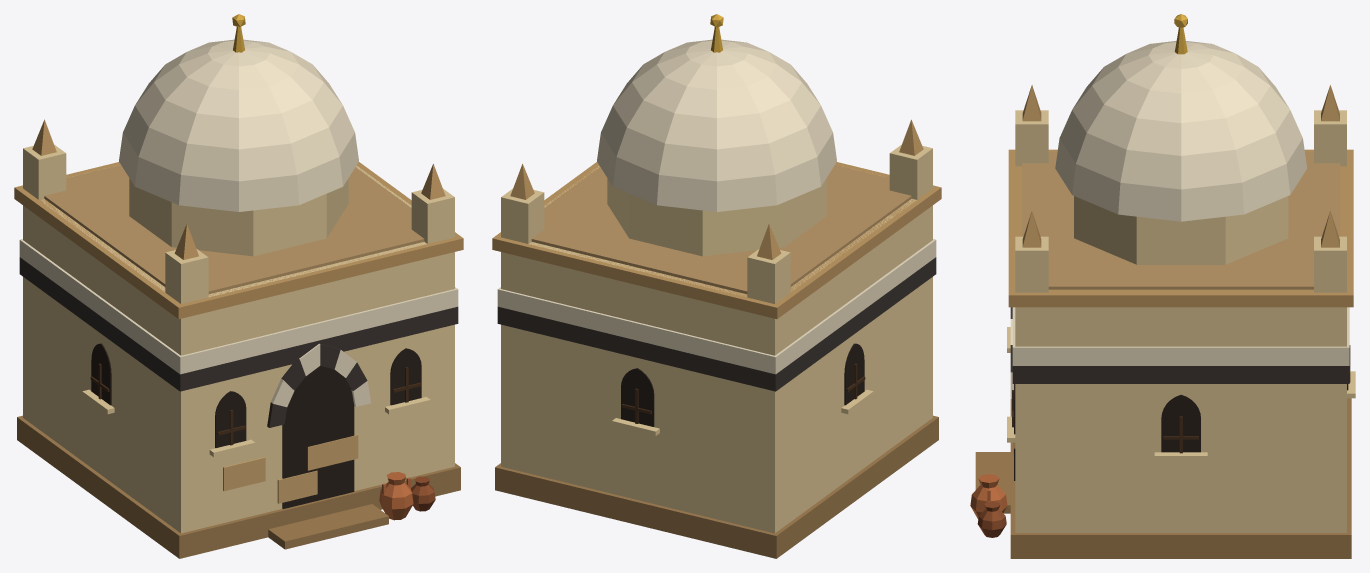
Rendered from desert_house_c.glb.
3 renders of one model, left to right at view 1: azimuth 30°, elevation 25°; view 2: azimuth 150°, elevation 25°; view 3: azimuth 270°, elevation 25°, orthographic. The views are drawn at different scales.
Visible parts, largest first — view 1: desert_house_c; view 2: desert_house_c; view 3: desert_house_c.
Boxes of the visible parts, left/top/right/bottom form: desert_house_c: left=14, top=14, right=463, bottom=558; desert_house_c: left=492, top=14, right=941, bottom=558; desert_house_c: left=970, top=14, right=1355, bottom=558.
Size of the model in its own units: 5.26 by 7.87 by 5.81.
